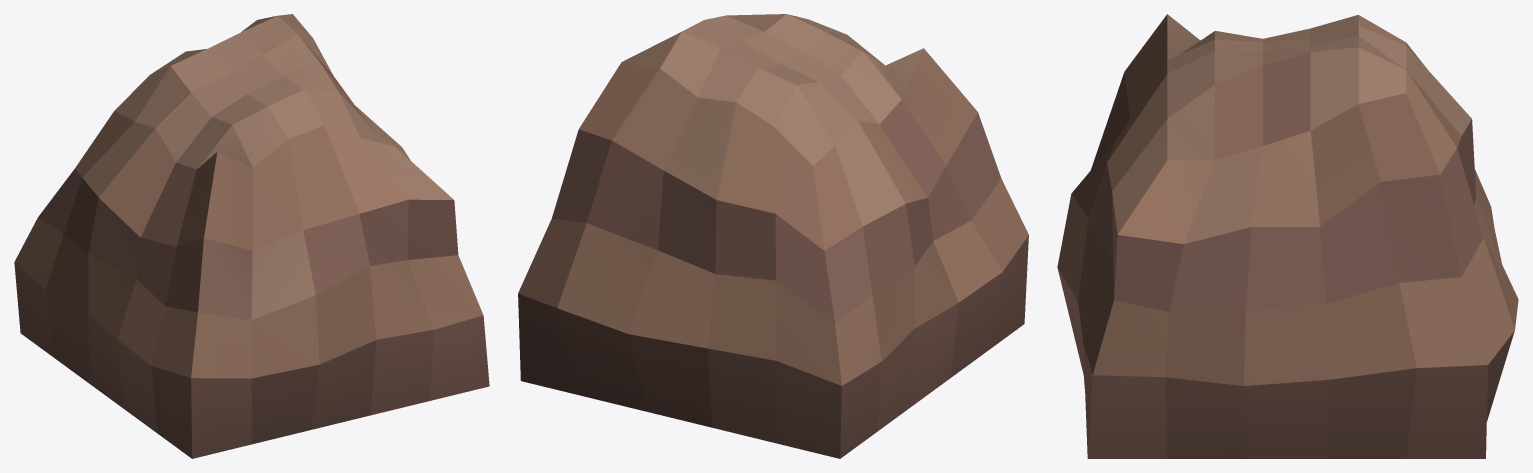
File: roca_suelta_3.glb
3 views of the same model, side by side, from view 1: azimuth 30°, elevation 25°; view 2: azimuth 150°, elevation 25°; view 3: azimuth 270°, elevation 25° (orthographic). The views are drawn at different scales.
Parts seen in each view (by area): view 1: propforge-cuartos-roca_suelta; view 2: propforge-cuartos-roca_suelta; view 3: propforge-cuartos-roca_suelta.
Part boxes in pixels (<box>): propforge-cuartos-roca_suelta: <box>14,14,489,458</box>; propforge-cuartos-roca_suelta: <box>518,14,1028,458</box>; propforge-cuartos-roca_suelta: <box>1057,14,1518,458</box>.
Size of the model in its own units: 0.8628 by 0.7931 by 0.9264.
